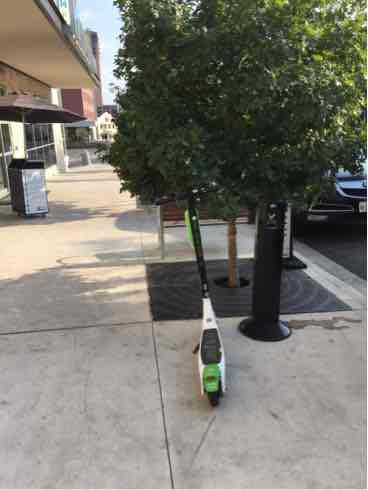scooter: (146, 174, 238, 412)
